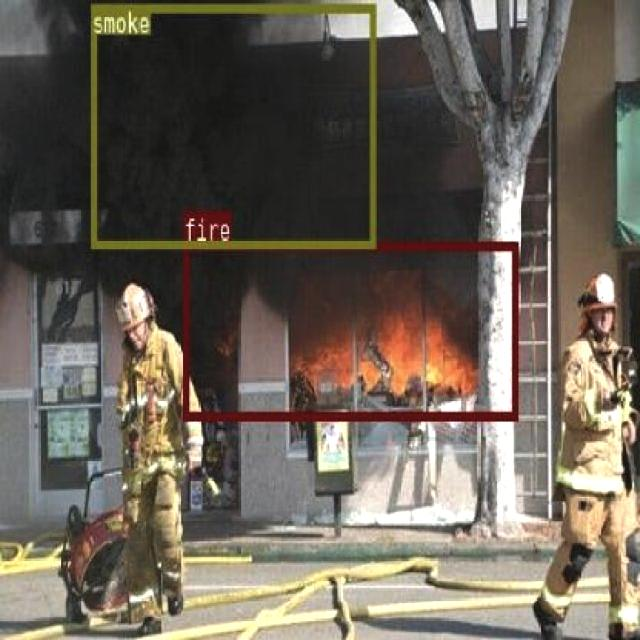fire: (182, 240, 516, 418)
smoke: (90, 3, 375, 248)
